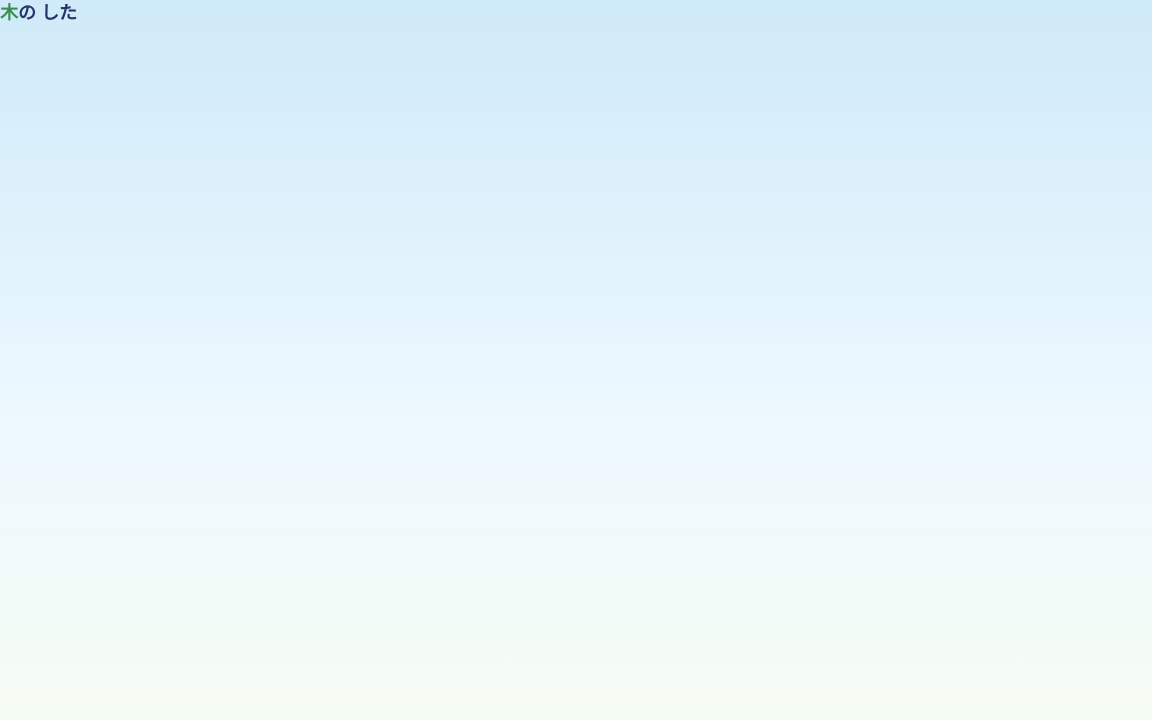
Test: KText: 漢字に変わった語を おすと よみが出る › 覚えた漢字の語を おすと、よみが上に出て、もう一度おすと消える
Later steps or results of the test are not shown.
Step 1. Click the button named "木、よみは き" → (9, 14), box [0, 0, 18, 27]
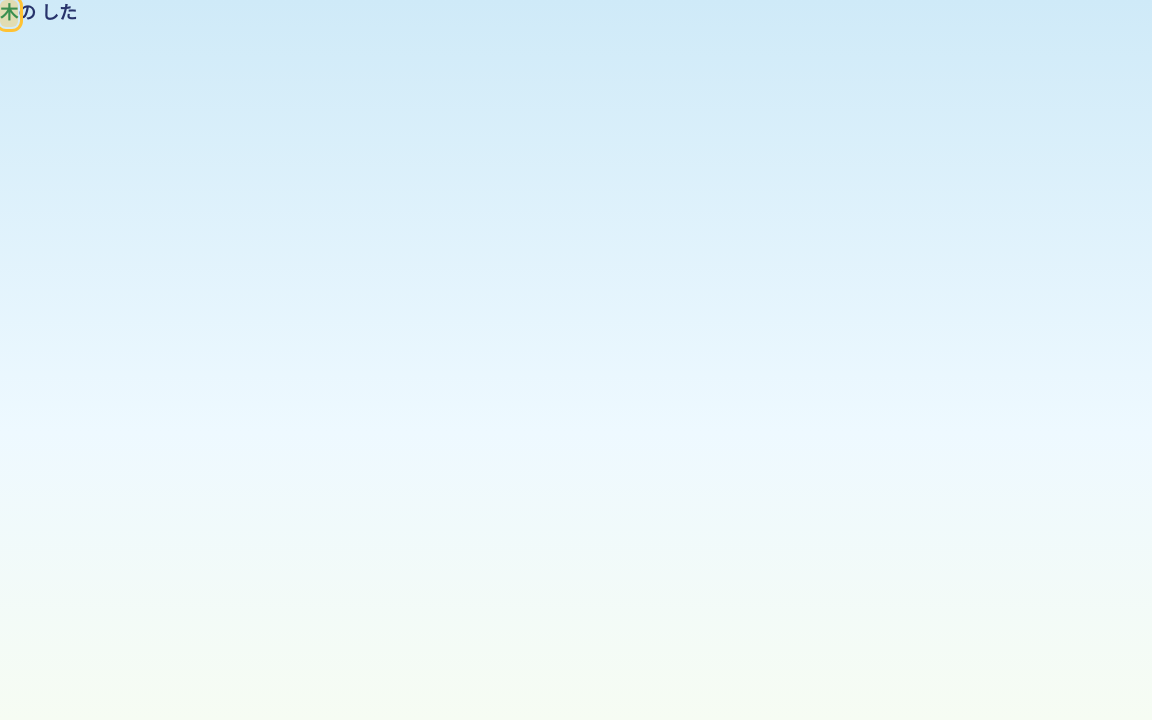
Check: the button named "木、よみは き" is expanded, box [0, 0, 18, 27]
